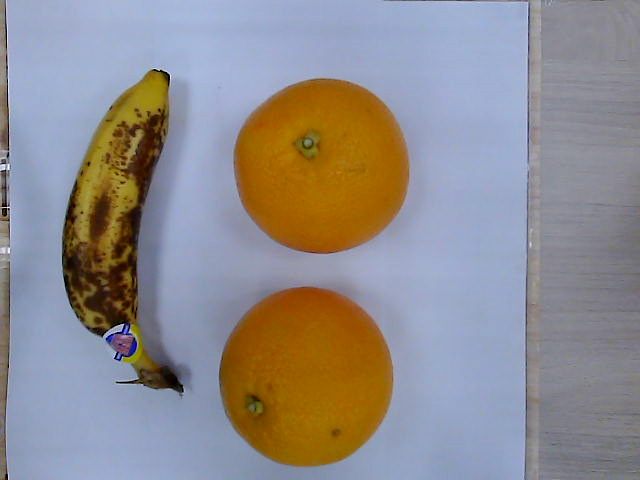fresh_orange: (219, 287, 396, 471), (233, 79, 409, 255)
rotten_banana: (63, 70, 186, 394)
